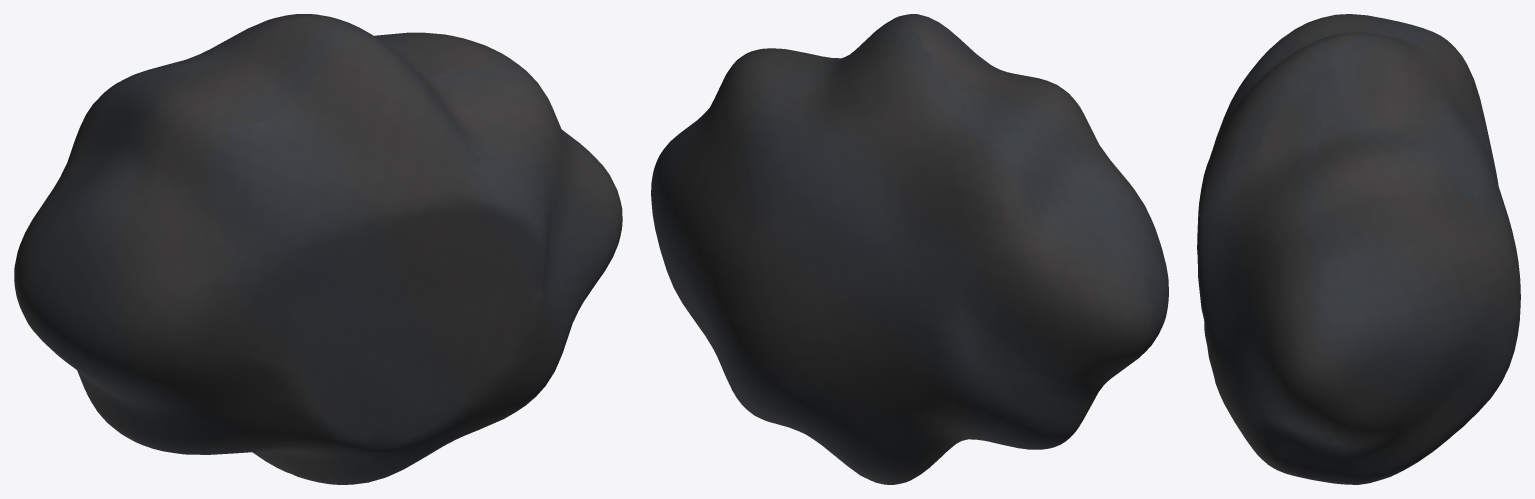
The model's file is vale_rock.glb.
The picture shows the model from 3 angles, left to right: view 1: azimuth 30°, elevation 25°; view 2: azimuth 150°, elevation 25°; view 3: azimuth 270°, elevation 25°; orthographic projection. The views are drawn at different scales.
Visible parts, largest first — view 1: Vale_Rock; view 2: Vale_Rock; view 3: Vale_Rock.
Part boxes in pixels (x1,y1,x2,y2): Vale_Rock: [14, 14, 622, 484]; Vale_Rock: [651, 14, 1168, 484]; Vale_Rock: [1197, 14, 1520, 484].
Size of the model in its own units: 2.65 by 2.13 by 1.49.
Materials: 1 (1 with a texture image).
